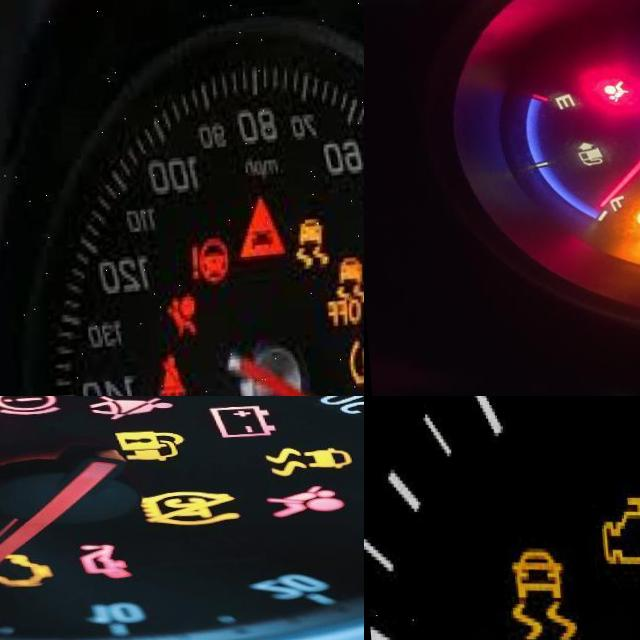Electronic Power Steering: (625, 202, 640, 236)
Electronic Power Steering Warning: (182, 237, 226, 284)
Seat Belt: (84, 396, 171, 420), (147, 354, 184, 396)
